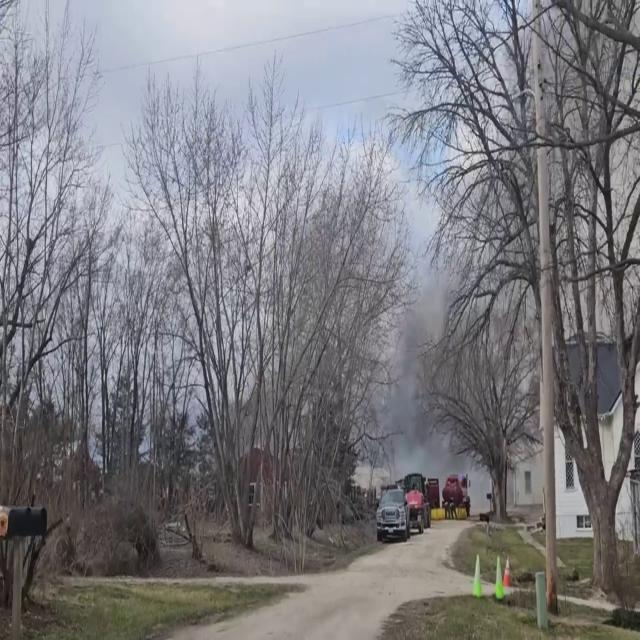Smoke: (360, 189, 463, 482)
